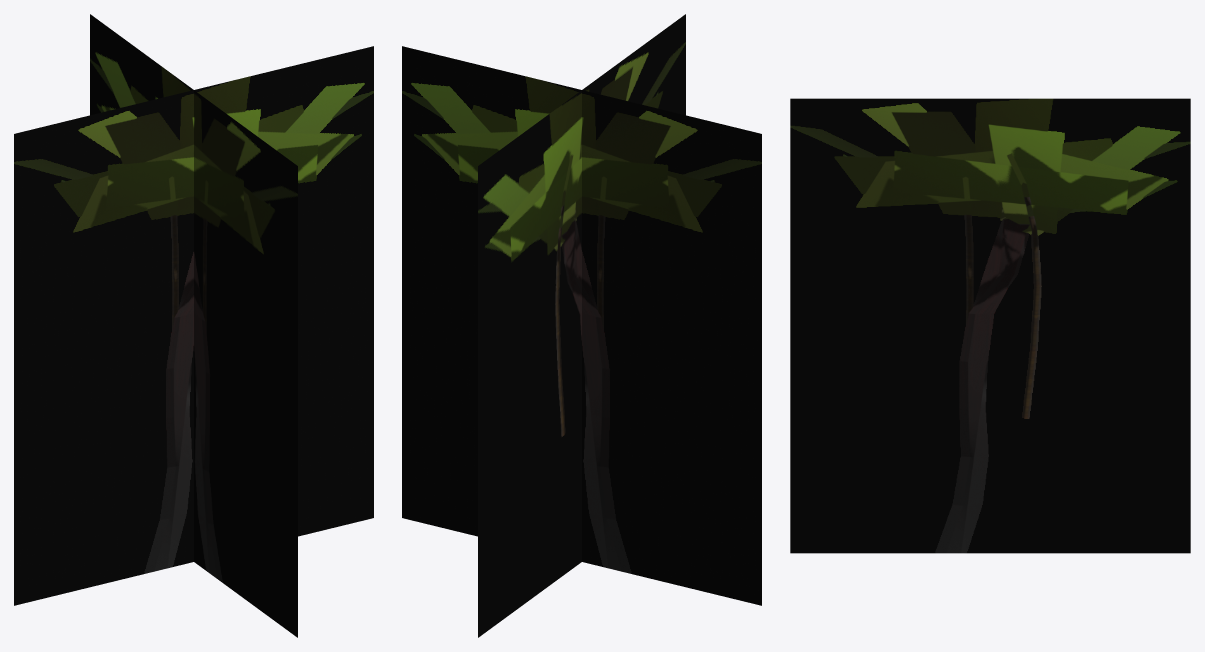
The model's file is jungle_palm_a2_card.glb.
3 views of the same model, side by side, from view 1: azimuth 30°, elevation 25°; view 2: azimuth 150°, elevation 25°; view 3: azimuth 270°, elevation 25° (orthographic). The views are drawn at different scales.
Parts seen in each view (by area): view 1: jungle_palm_a2_card; view 2: jungle_palm_a2_card; view 3: jungle_palm_a2_card.
Part boxes in pixels (x1,y1,x2,y2): jungle_palm_a2_card: (14,14,373,637); jungle_palm_a2_card: (402,14,761,637); jungle_palm_a2_card: (790,98,1190,553).
Bounding box in the file's own units: 5.33 × 6.68 × 5.33.
1 material, 1 textured.
